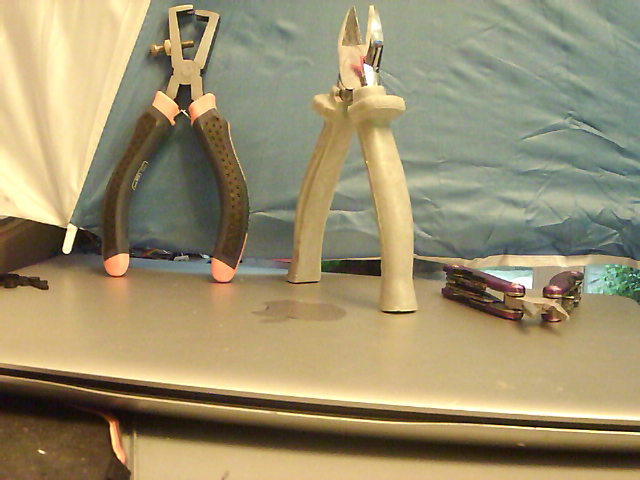pliers: (289, 2, 421, 318), (436, 260, 595, 335)
